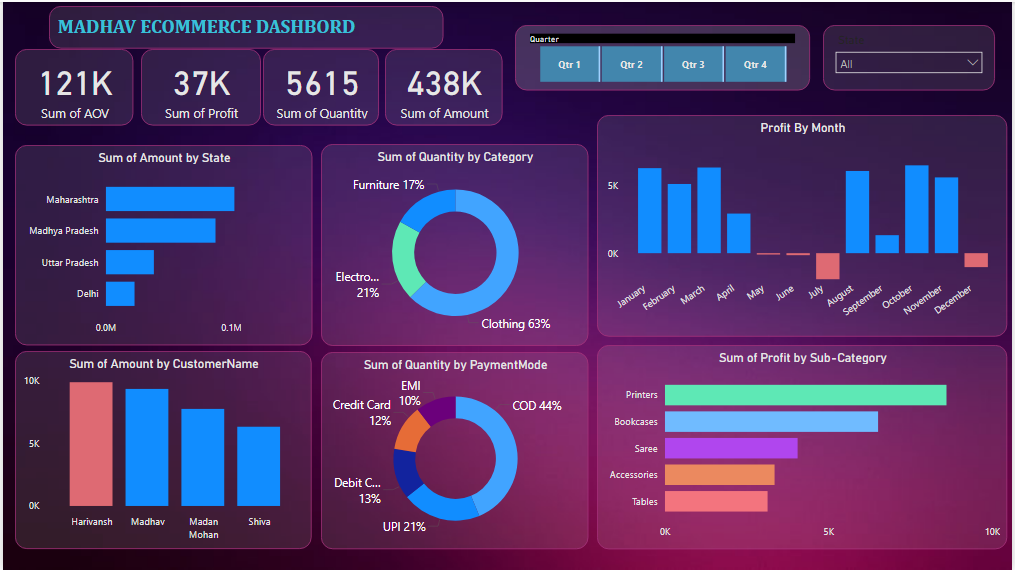

What the dashboard file says about the page in this screenshot:
{"tool":"powerbi","page":{"name":"Page 1","canvas":[1280,720],"ordinal":0},"visuals":[{"type":"textbox","box":[58.4,5.6,500.4,54.2],"z":0},{"type":"columnChart","title":"Profit By Month","fields":{"Category":["Orders.Order Date.Variation.Date Hierarchy.Month"],"Y":["Sum(Details.Profit)"]},"box":[752.9,142.9,520,281.4],"z":1000},{"type":"barChart","fields":{"Category":["Details.Sub-Category"],"Y":["Sum(Details.Profit)"]},"box":[753.4,435.1,519.8,258.5],"z":2000},{"type":"donutChart","fields":{"Category":["Details.Category"],"Y":["Sum(Details.Quantity)"]},"box":[402.9,180,338.6,255.7],"z":3000},{"type":"donutChart","fields":{"Y":["Sum(Details.Quantity)"],"Category":["Details.PaymentMode"]},"box":[403.1,443.4,339.2,250.2],"z":4000},{"type":"card","fields":{"Values":["Sum(Details.Amount)"]},"box":[483.7,59.8,148.7,97.3],"z":5000},{"type":"card","fields":{"Values":["Sum(Details.Quantity)"]},"box":[329.4,59.8,147.3,97.3],"z":6000},{"type":"card","fields":{"Values":["Sum(Details.Profit)"]},"box":[175.1,59.8,151.5,97.3],"z":7000},{"type":"card","fields":{"Values":["Sum(Details.AOV)"]},"box":[15.3,59.8,150.1,97.3],"z":8000},{"type":"barChart","fields":{"Y":["Sum(Details.Amount)"],"Category":["Orders.State"]},"box":[15.3,180.7,376.7,254.4],"z":9000},{"type":"columnChart","fields":{"Category":["Orders.CustomerName"],"Y":["Sum(Details.Amount)"]},"box":[15.7,442.9,375.7,251.4],"z":10000},{"type":"slicer","fields":{"Values":["Orders.Order Date.Variation.Date Hierarchy.Quarter"]},"box":[649.1,29.2,373.9,83.4],"z":11000},{"type":"slicer","fields":{"Values":["Orders.State"]},"box":[1039.7,29.2,218.2,83.4],"z":12000}]}

Visuals, with their boxes in screenshot pixels (x1, y1, x2, y2), scaled from the page's 1280x720 canvas onto the 1015x570 screenshot:
textbox: left=46, top=4, right=443, bottom=47
"Profit By Month" columnChart: left=597, top=113, right=1009, bottom=336
barChart - Details.Sub-Category x Sum(Details.Profit): left=597, top=344, right=1010, bottom=549
donutChart - Details.Category x Sum(Details.Quantity): left=319, top=142, right=588, bottom=345
donutChart - Sum(Details.Quantity) x Details.PaymentMode: left=320, top=351, right=589, bottom=549
card - Sum(Details.Amount): left=384, top=47, right=501, bottom=124
card - Sum(Details.Quantity): left=261, top=47, right=378, bottom=124
card - Sum(Details.Profit): left=139, top=47, right=259, bottom=124
card - Sum(Details.AOV): left=12, top=47, right=131, bottom=124
barChart - Sum(Details.Amount) x Orders.State: left=12, top=143, right=311, bottom=344
columnChart - Orders.CustomerName x Sum(Details.Amount): left=12, top=351, right=310, bottom=550
slicer - Orders.Order Date.Variation.Date Hierarchy.Quarter: left=515, top=23, right=811, bottom=89
slicer - Orders.State: left=824, top=23, right=997, bottom=89
